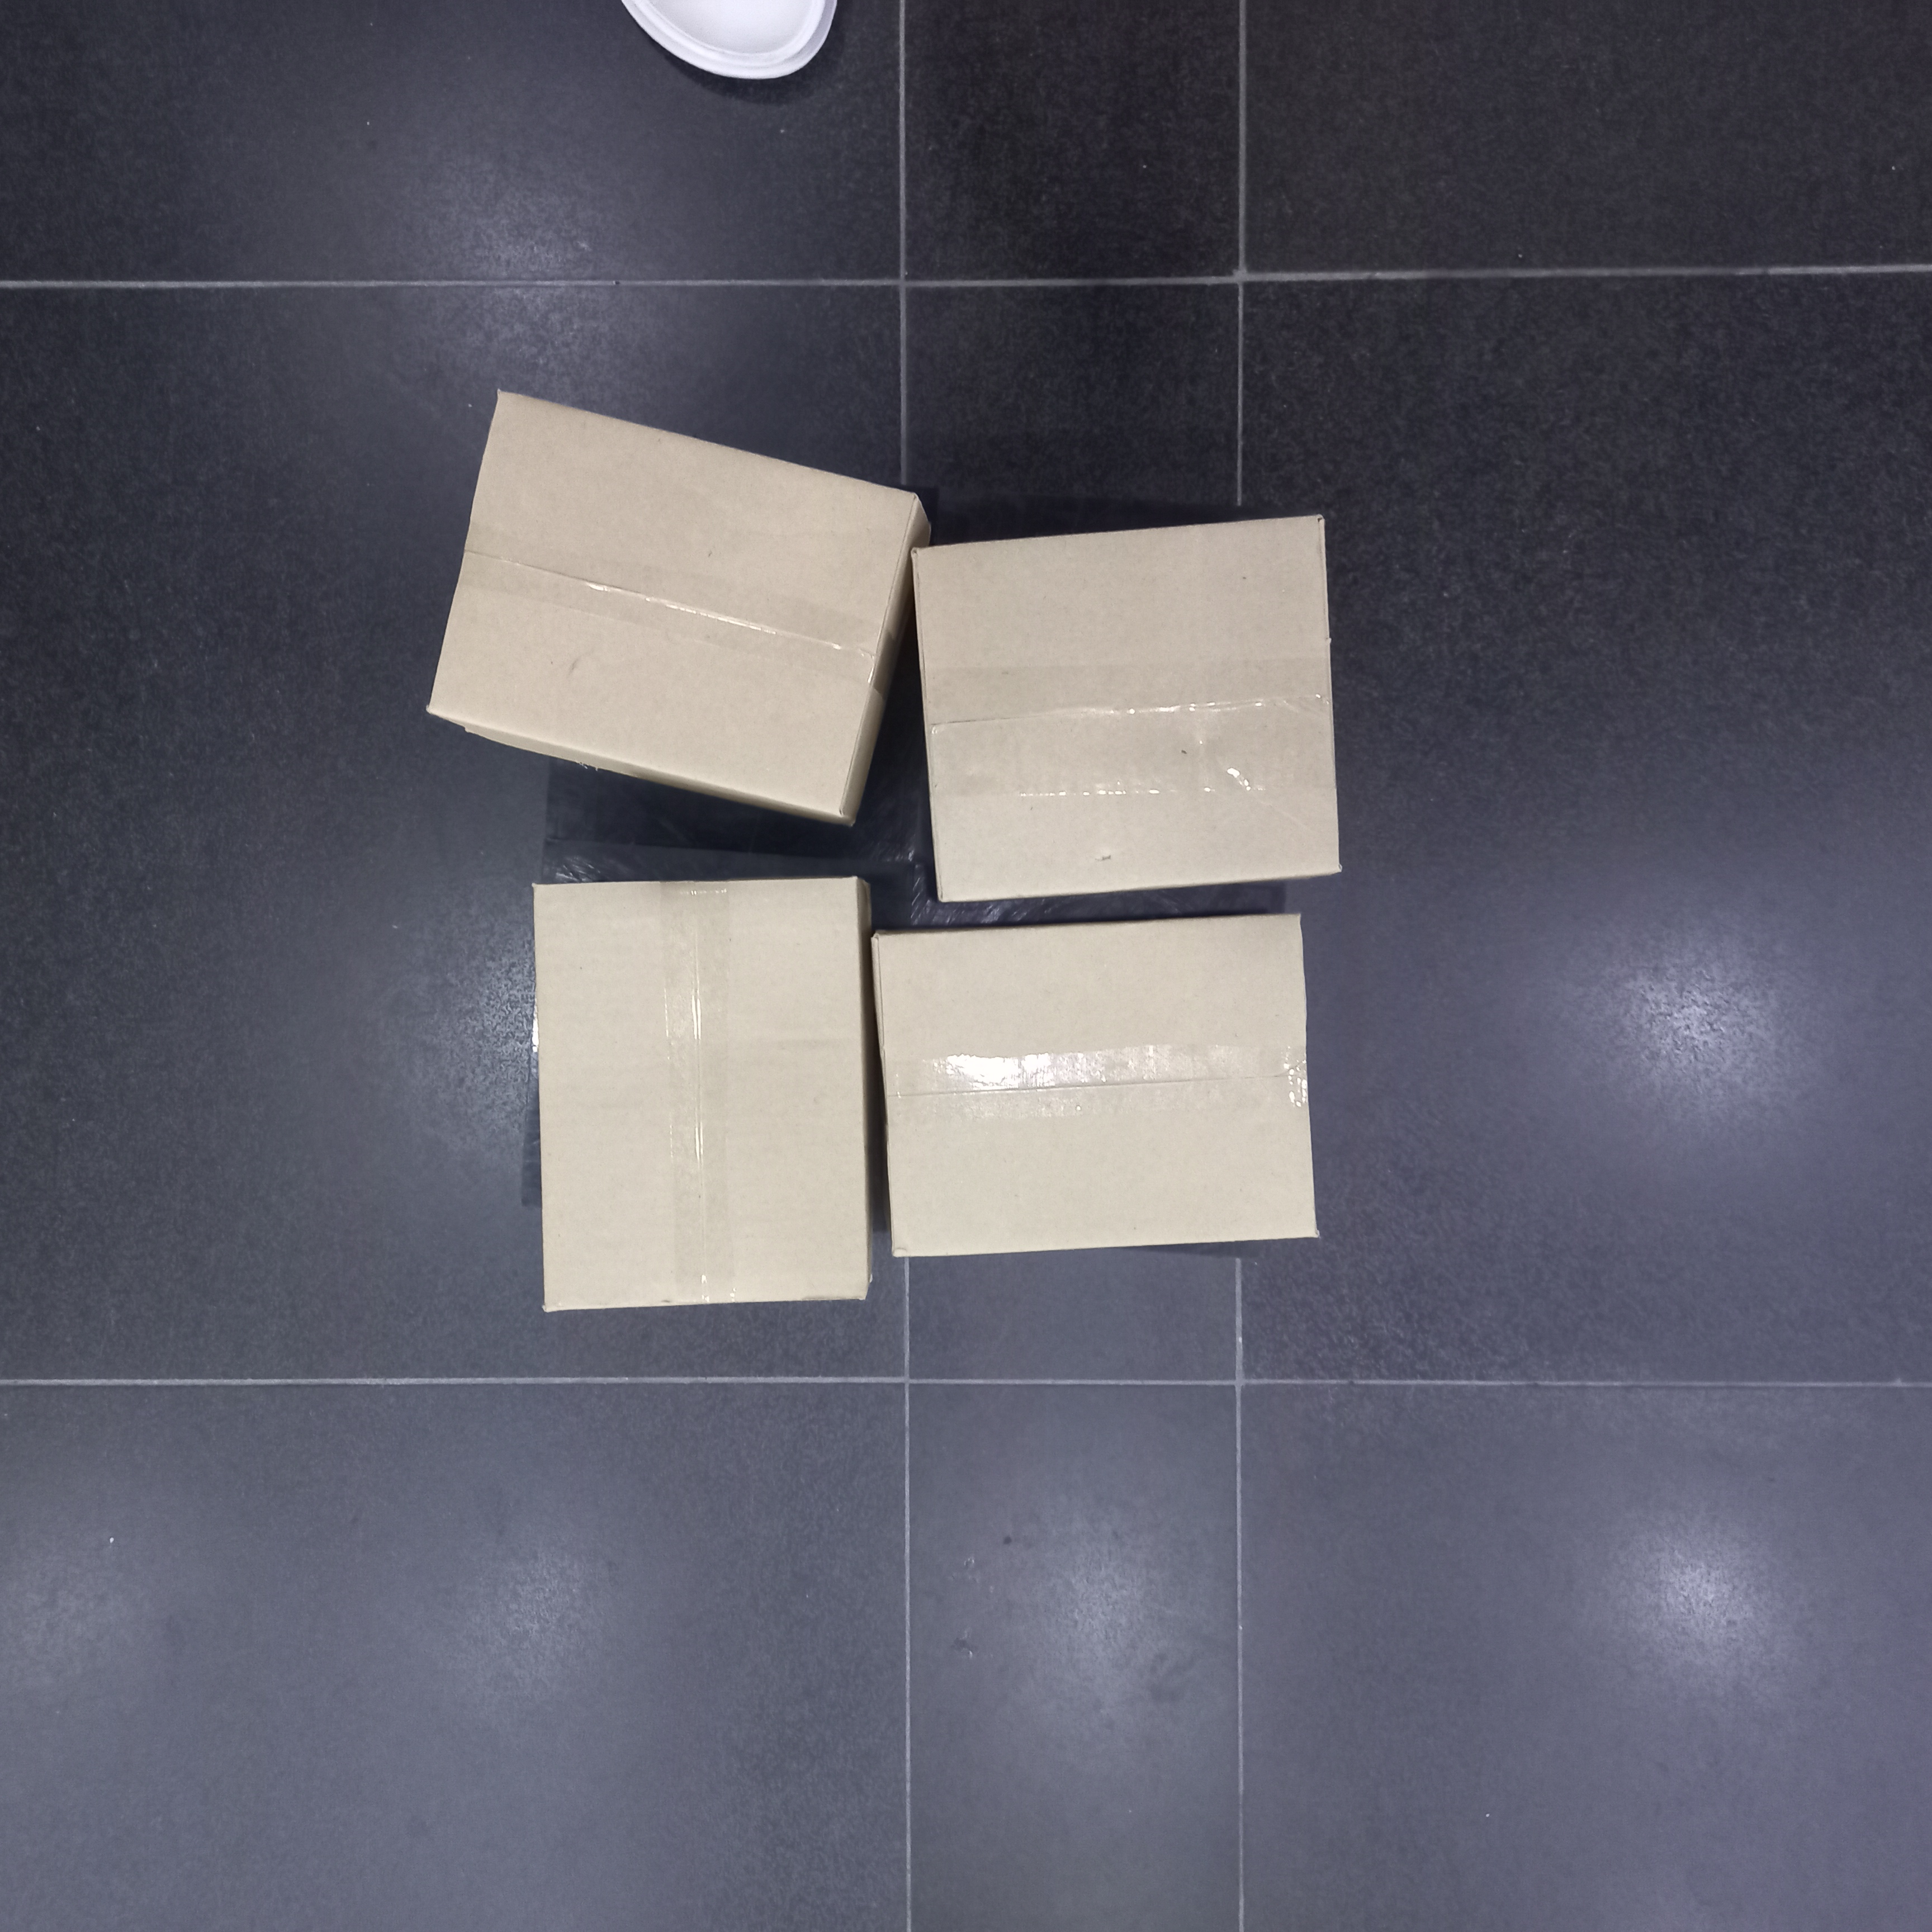box: (423, 380, 920, 826), (908, 510, 1343, 908), (872, 909, 1318, 1261), (534, 867, 872, 1316)
